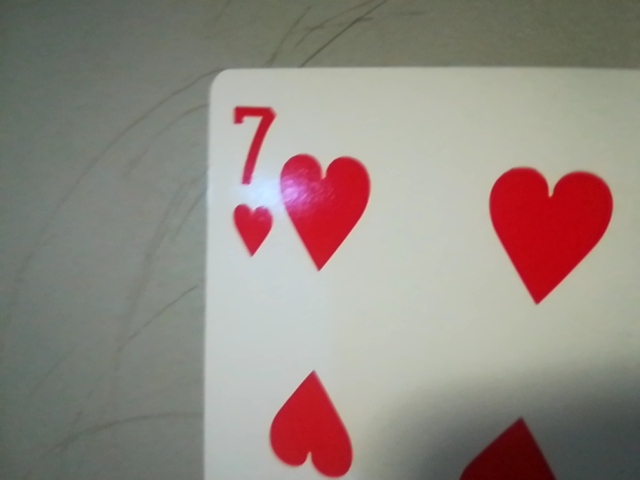hx 7: (215, 90, 285, 274)
